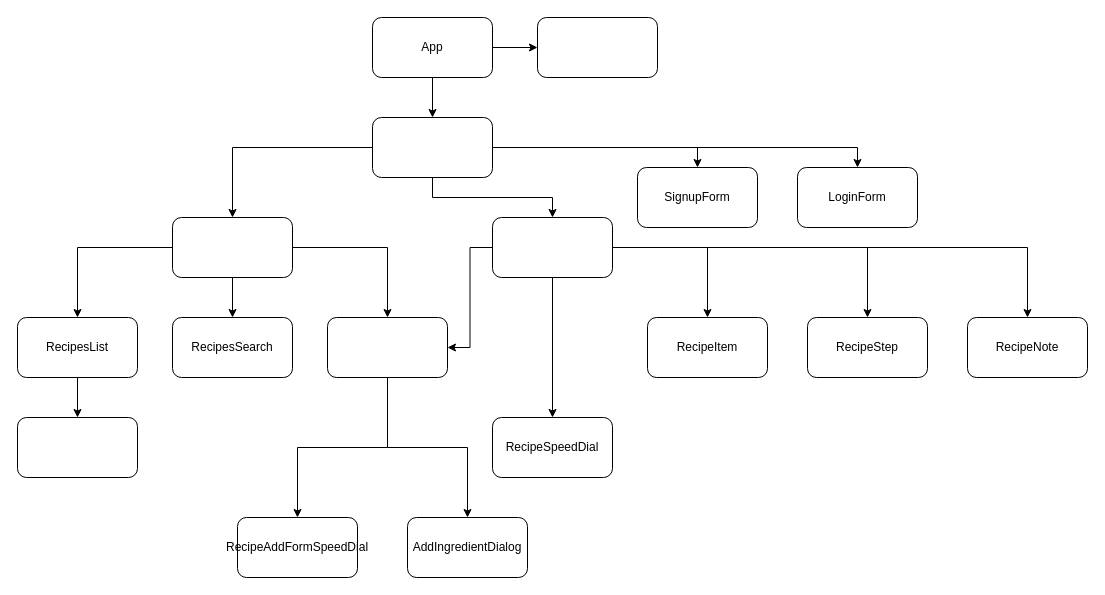
Some shapes in this 1105 by 595 pixel diagram are drawn without their labels. Here are the shapes that lost their labels. From the top down, the box of each, then its label:
(536, 16, 658, 78): NavBar
(372, 116, 492, 178): RouteList
(172, 216, 292, 278): RecipesHome
(492, 216, 612, 278): Recipe
(326, 316, 448, 378): RecipeAddForm
(16, 416, 138, 478): RecipesListItem
